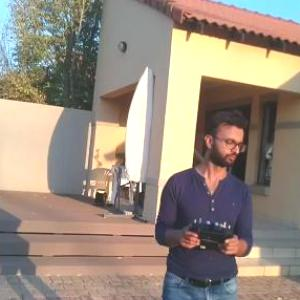follow: (149, 106, 256, 299)
